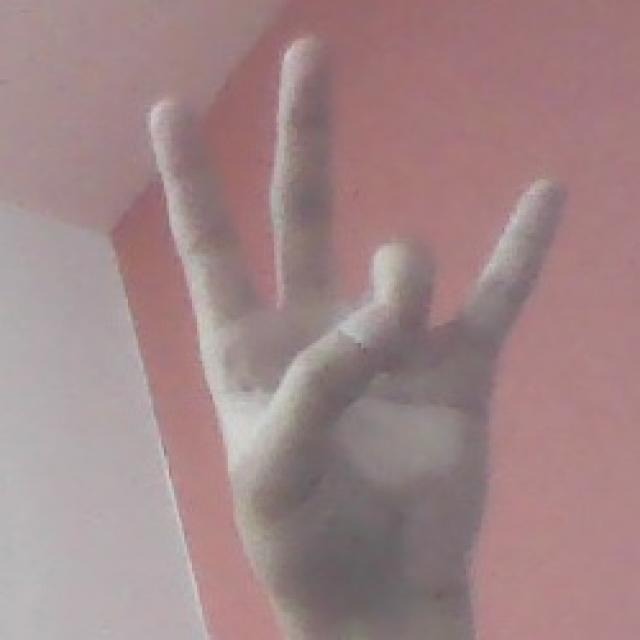Numeric-7: (149, 30, 566, 603)
